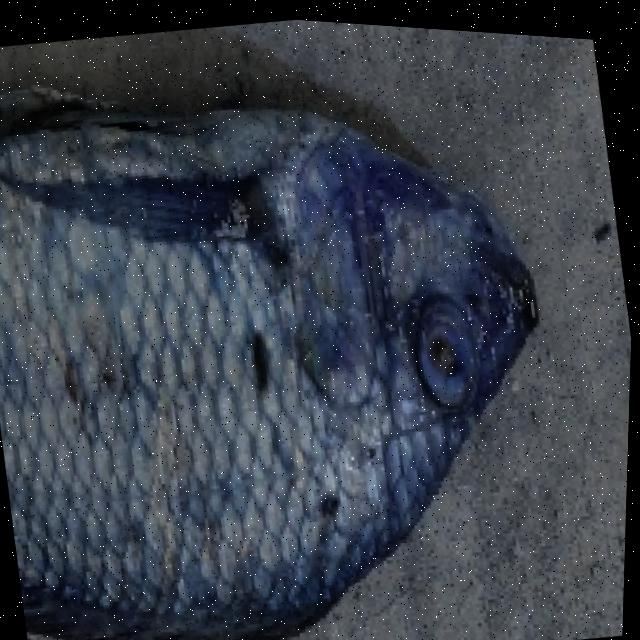Non-Fresh: (0, 22, 587, 640), (375, 273, 495, 433)
